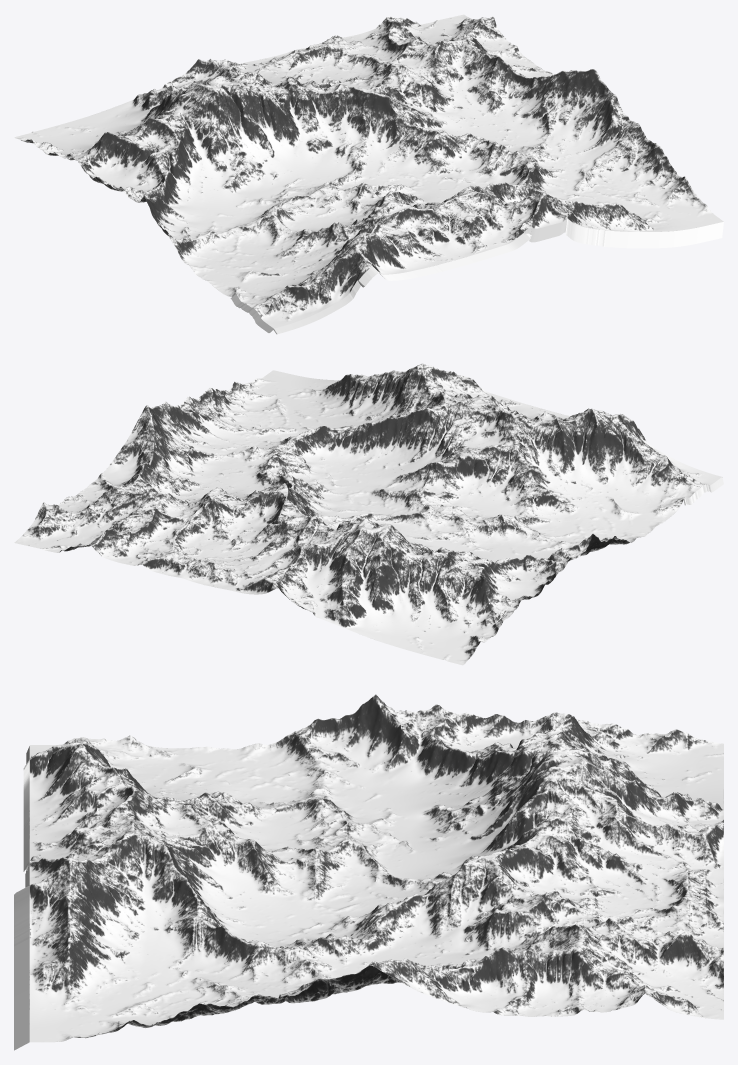
Rendered from ice_03.glb.
The picture shows the model from 3 angles, top to bottom: view 1: azimuth 30°, elevation 25°; view 2: azimuth 150°, elevation 25°; view 3: azimuth 270°, elevation 25°; orthographic projection. The views are drawn at different scales.
Visible parts, largest first — view 1: Object_2, Object_3, Object_4; view 2: Object_3, Object_2, Object_4; view 3: Object_2, Object_3, Object_4.
Part boxes in pixels (box(x1,y1,x2,y2)): Object_2: box(14, 40, 723, 334); Object_3: box(29, 14, 716, 277); Object_4: box(199, 143, 710, 318); Object_3: box(14, 375, 645, 661); Object_2: box(83, 363, 723, 665); Object_4: box(203, 363, 704, 536); Object_2: box(14, 694, 723, 1050); Object_3: box(47, 694, 723, 1042); Object_4: box(41, 740, 246, 1040).
Size of the model in its own units: 2.02 by 0.3244 by 2.05.
Materials: 1 (1 with a texture image).
